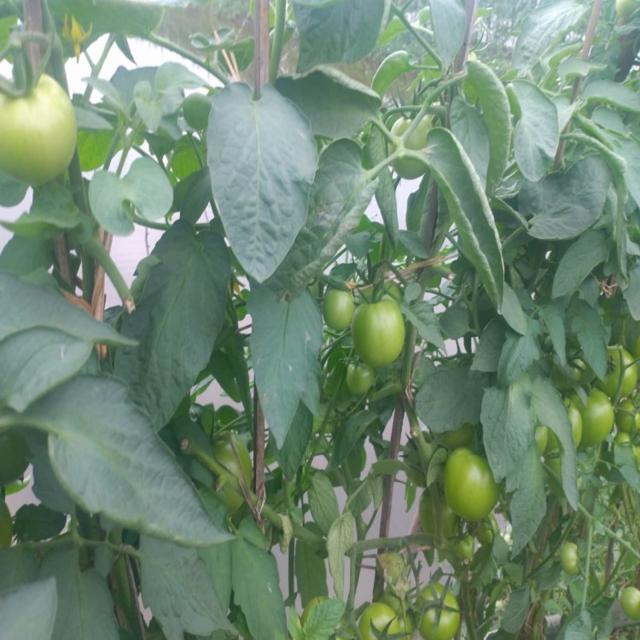tomato: (2, 66, 75, 189), (442, 452, 506, 519), (357, 296, 408, 369), (419, 578, 467, 639), (392, 114, 438, 177), (574, 387, 619, 451), (216, 438, 256, 509), (601, 346, 637, 399), (361, 600, 402, 640), (419, 491, 455, 536), (324, 283, 353, 332), (438, 422, 477, 450), (344, 364, 374, 396), (560, 541, 584, 581), (455, 531, 477, 566), (567, 400, 583, 448), (622, 587, 640, 623), (537, 420, 554, 455), (618, 406, 640, 433), (479, 518, 497, 547), (617, 431, 631, 447)
